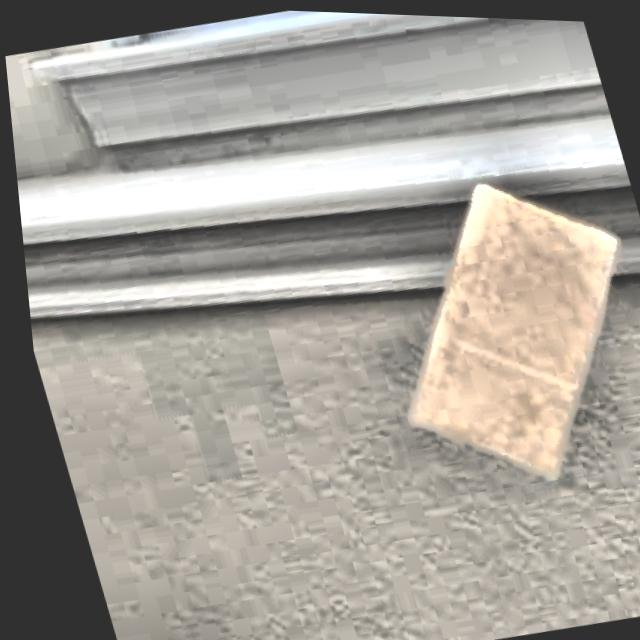Paper-bag: (333, 146, 640, 533)
